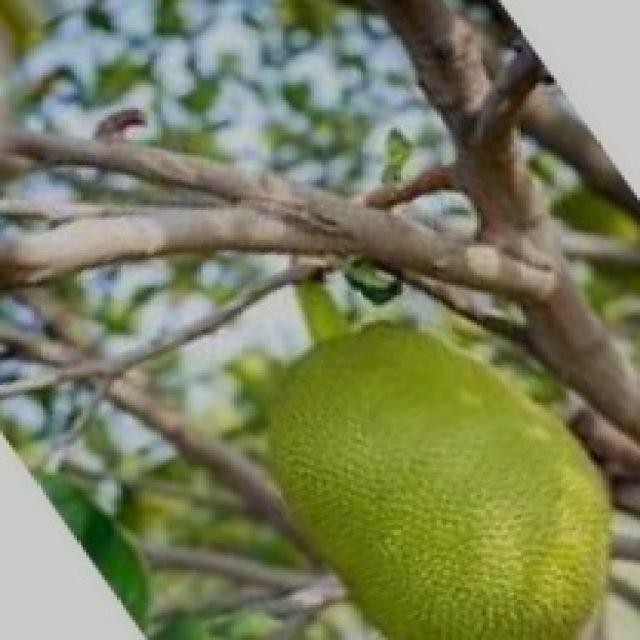Fruit: (225, 290, 637, 640)
